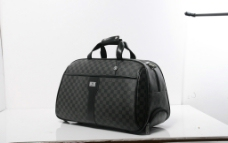luggage: (49, 34, 172, 136)
